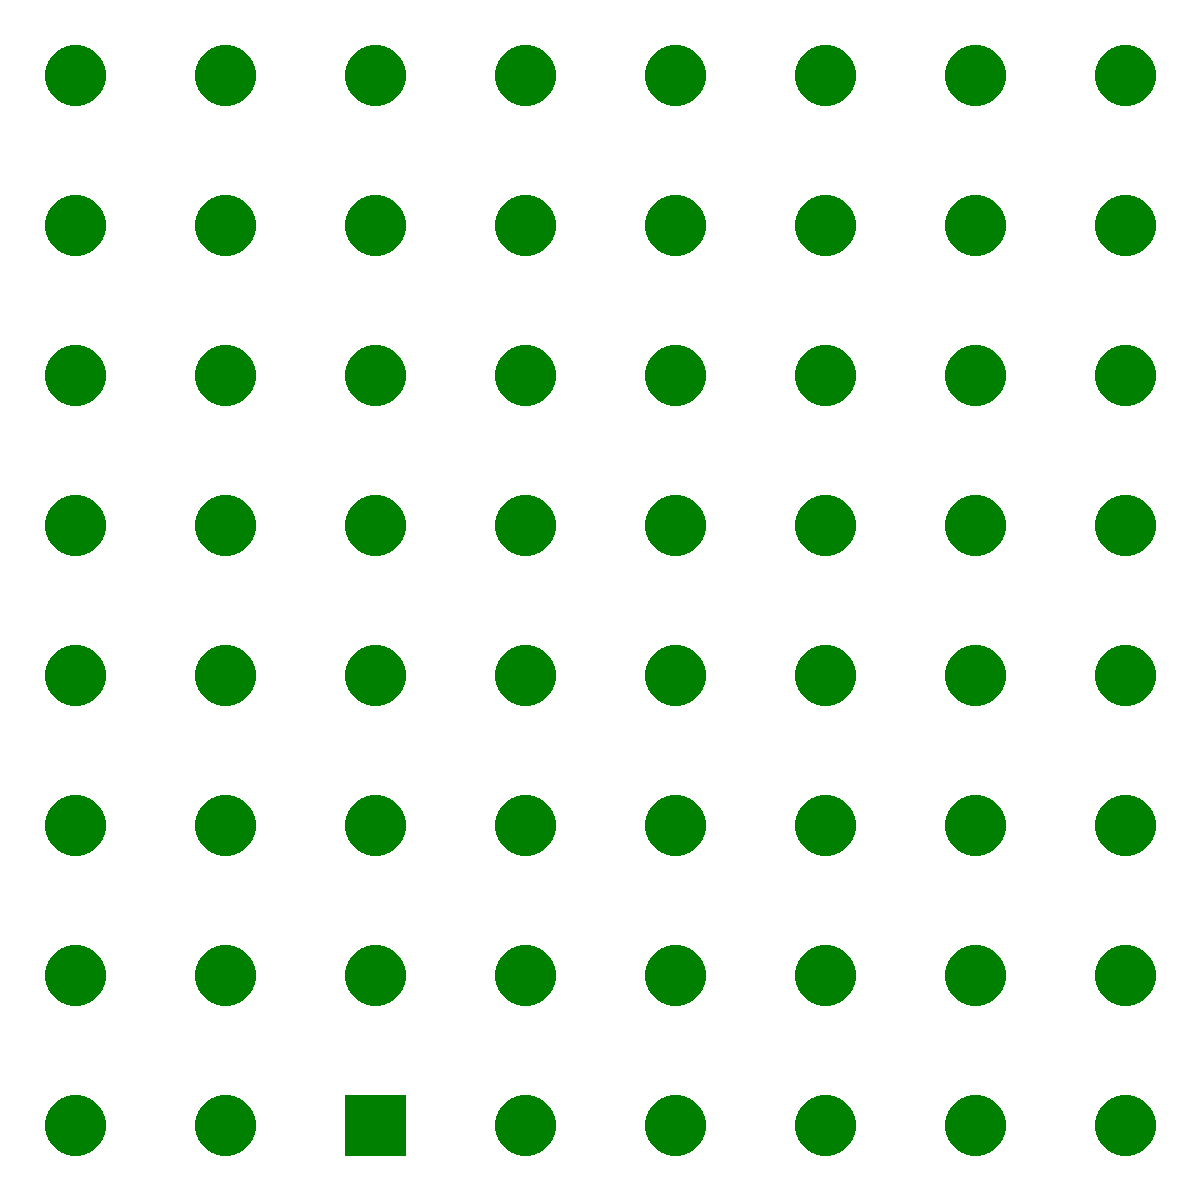Green-square: (345, 1095, 405, 1155)
